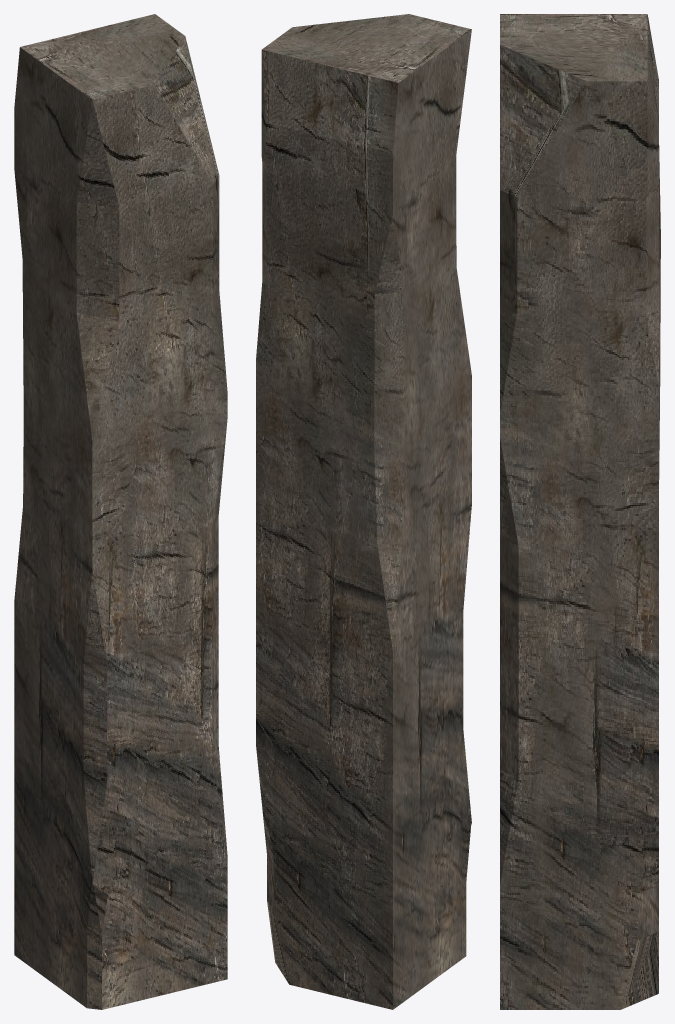
The model's file is Charcoal.glb.
The picture shows the model from 3 angles, left to right: view 1: azimuth 30°, elevation 25°; view 2: azimuth 150°, elevation 25°; view 3: azimuth 270°, elevation 25°; orthographic projection.
Visible parts, largest first — view 1: Chacoal Stick; view 2: Chacoal Stick; view 3: Chacoal Stick.
Boxes of the visible parts, x1,y1,x2,y2 form: Chacoal Stick: [14, 14, 227, 1009]; Chacoal Stick: [256, 14, 471, 1009]; Chacoal Stick: [500, 14, 660, 1009].
Bounding box in the file's own units: 0.4051 × 2.58 × 0.4051.
1 material, 1 textured.
